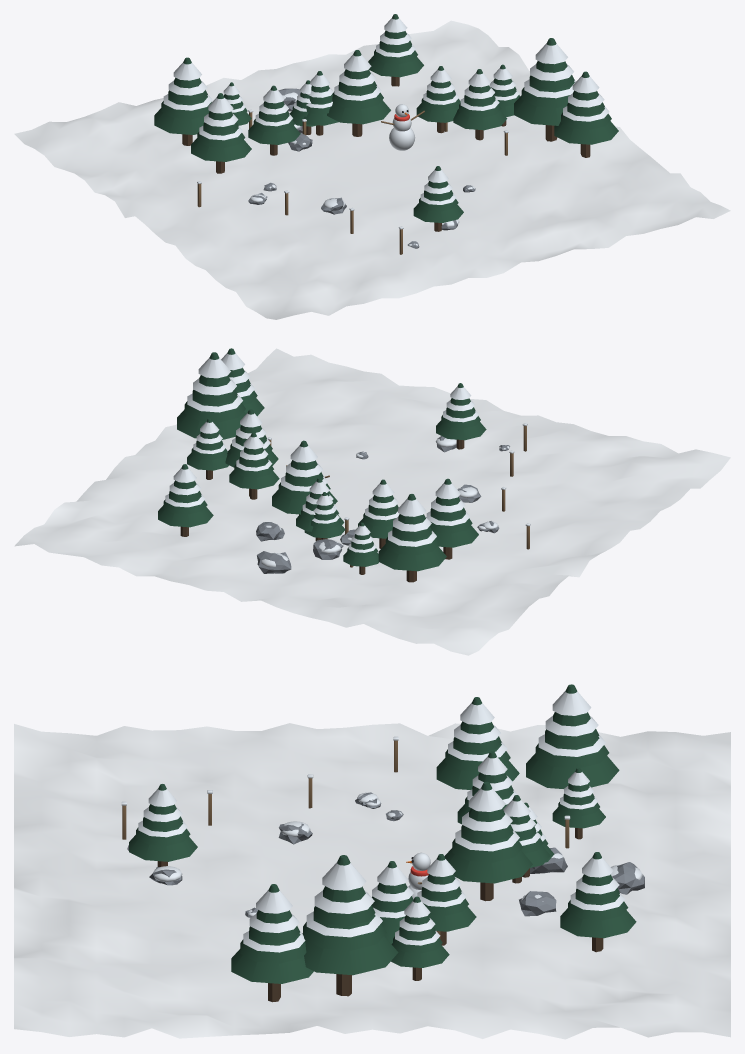
The model's file is loc_snow.glb.
The picture shows the model from 3 angles, top to bottom: view 1: azimuth 30°, elevation 25°; view 2: azimuth 150°, elevation 25°; view 3: azimuth 270°, elevation 25°; orthographic projection. The views are drawn at different scales.
Parts seen in each view (by area): view 1: Sn_Ground, Sn_Tree8_L0, Sn_Tree3_L0, Sn_Tree1_L0, Sn_Tree13_L0, Sn_Tree4_L0, Sn_Tree1_L2, Sn_Tree7_L0, Sn_Tree11_L0, Sn_Tree5_L0, Sn_Tree1_L1, Sn_Tree10_L0 (+7 smaller); view 2: Sn_Ground, Sn_Tree4_L0, Sn_Tree1_L0, Sn_Tree1_L1, Sn_Tree1_L2, Sn_Tree7_L0, Sn_Tree4_L1, Sn_Tree10_L0, Sn_Tree12_L0, Sn_Tree13_L0, Sn_Tree4_L2, Sn_Tree3_L0 (+2 smaller); view 3: Sn_Ground, Sn_Tree1_L0, Sn_Tree3_L0, Sn_Tree4_L0, Sn_Tree8_L0, Sn_Tree1_L1, Sn_Tree1_L2, Sn_Tree7_L0, Sn_Tree10_L0, Sn_Tree4_L1, Sn_Tree4_L2, Sn_Tree3_L1 (+25 smaller).
Part boxes in pixels (box(x1,y1,x2,y2)): Sn_Ground: box(14, 20, 730, 319); Sn_Tree8_L0: box(554, 121, 618, 144); Sn_Tree3_L0: box(327, 100, 390, 124); Sn_Tree1_L0: box(514, 95, 566, 125); Sn_Tree13_L0: box(191, 138, 251, 161); Sn_Tree4_L0: box(154, 108, 204, 134); Sn_Tree1_L2: box(529, 38, 574, 89); Sn_Tree7_L0: box(368, 55, 423, 77); Sn_Tree11_L0: box(453, 109, 507, 130); Sn_Tree5_L0: box(248, 124, 300, 144); Sn_Tree1_L1: box(521, 81, 574, 107); Sn_Tree10_L0: box(413, 203, 463, 222); Sn_Ground: box(14, 348, 730, 655); Sn_Tree4_L0: box(378, 544, 446, 571); Sn_Tree1_L0: box(177, 409, 245, 439); Sn_Tree1_L1: box(184, 396, 245, 422); Sn_Tree1_L2: box(192, 352, 237, 404); Sn_Tree7_L0: box(158, 505, 213, 527); Sn_Tree4_L1: box(385, 530, 439, 555); Sn_Tree10_L0: box(436, 420, 486, 440); Sn_Tree12_L0: box(229, 470, 279, 489); Sn_Tree13_L0: box(433, 525, 478, 547); Sn_Tree4_L2: box(392, 494, 431, 539); Sn_Tree3_L0: box(272, 489, 337, 514); Sn_Ground: box(14, 723, 730, 1039); Sn_Tree1_L0: box(302, 933, 398, 975); Sn_Tree3_L0: box(444, 848, 532, 883); Sn_Tree4_L0: box(526, 753, 619, 788); Sn_Tree8_L0: box(231, 949, 313, 983); Sn_Tree1_L1: box(303, 911, 386, 950); Sn_Tree1_L2: box(314, 855, 375, 925); Sn_Tree7_L0: box(560, 908, 636, 938); Sn_Tree10_L0: box(129, 835, 197, 861); Sn_Tree4_L1: box(535, 736, 609, 768); Sn_Tree4_L2: box(545, 684, 599, 746); Sn_Tree3_L1: box(452, 832, 522, 862).
Size of the model in its own units: 22 by 4.88 by 22.
